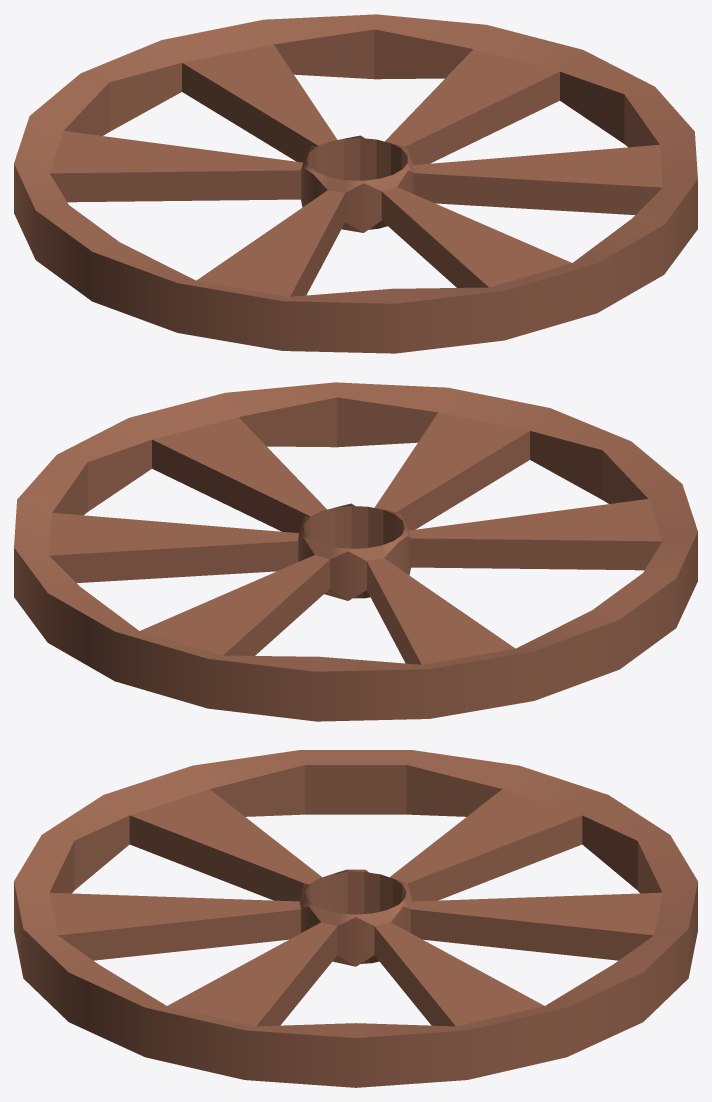
The model's file is low_poly_wheel.glb.
The picture shows the model from 3 angles, top to bottom: view 1: azimuth 30°, elevation 25°; view 2: azimuth 150°, elevation 25°; view 3: azimuth 270°, elevation 25°; orthographic projection.
Parts seen in each view (by area): view 1: pCylinder3; view 2: pCylinder3; view 3: pCylinder3.
Boxes of the visible parts, x1=… form: pCylinder3: x1=14, y1=14, x2=697, y2=353; pCylinder3: x1=14, y1=382, x2=697, y2=721; pCylinder3: x1=14, y1=750, x2=697, y2=1087.
Bounding box in the file's own units: 5.45 × 0.4391 × 5.47.
